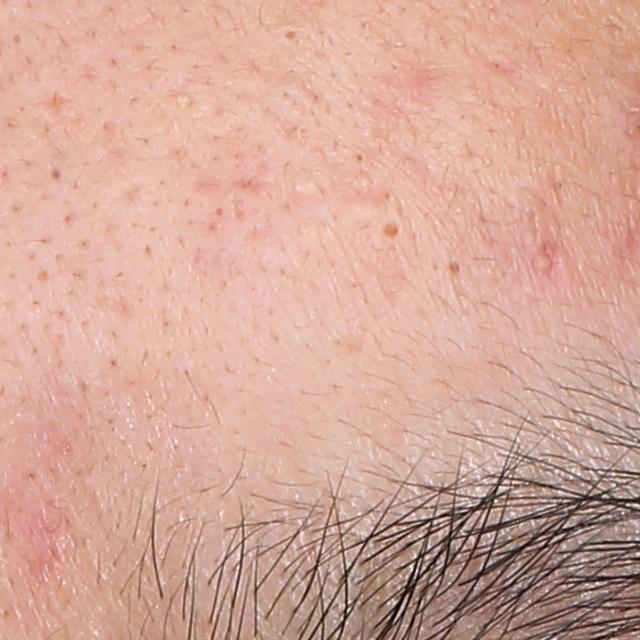comedo: (447, 260, 465, 277), (353, 148, 370, 164)
